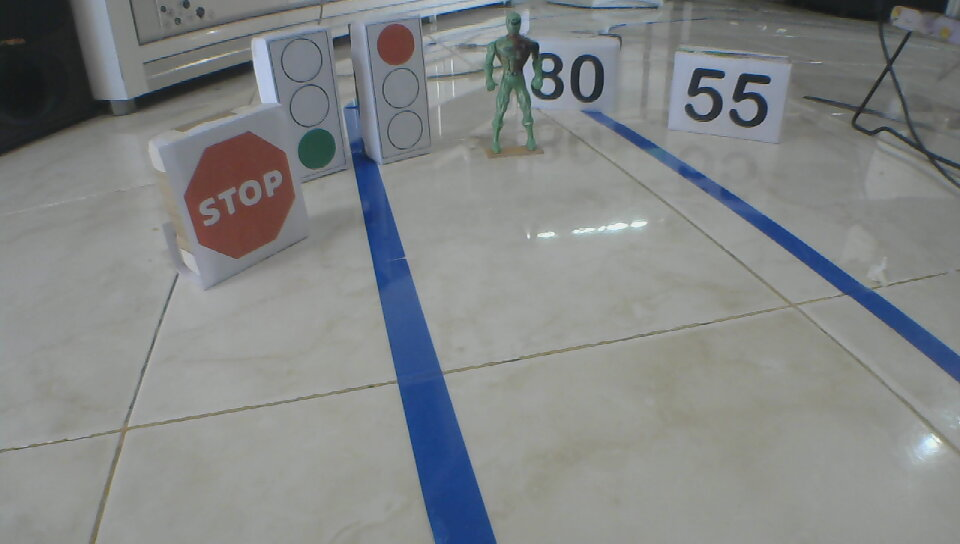Green Light: (280, 34, 337, 169)
Person: (481, 12, 541, 153)
Red Light: (377, 22, 424, 152)
Speed 55: (680, 64, 773, 129)
Speed 80: (526, 50, 607, 104)
Stop: (184, 131, 296, 260)
